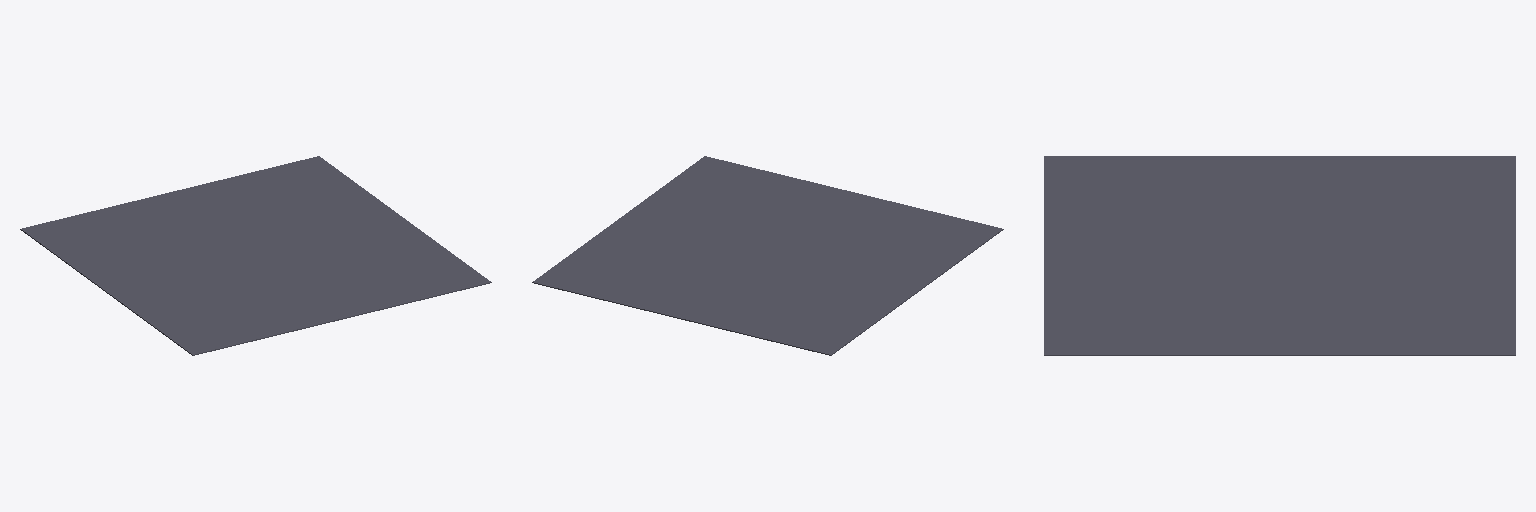
The robot description file, URDF, robot "floor":
<?xml version="1.0"?>
<robot name="floor">
  <link name="world"/>
  <link name="ground">
    <visual>
      <origin xyz="0 0 -0.005" rpy="0 0 0"/>
      <geometry><box size="3.0 3.0 0.01"/></geometry>
      <material name="FloorColor"><color rgba="0.4 0.4 0.45 1.0"/></material>
    </visual>
    <collision>
      <origin xyz="0 0 -0.005" rpy="0 0 0"/>
      <geometry><box size="3.0 3.0 0.01"/></geometry>
    </collision>
  </link>
  <joint name="world_to_ground" type="fixed">
    <parent link="world"/>
    <child link="ground"/>
  </joint>
</robot>

--- What the picture shows (computed from the rendered views, not written in the file) ---
Views: 3 orthographic renders of the robot side by side, from view 1: azimuth 30°, elevation 25°; view 2: azimuth 150°, elevation 25°; view 3: azimuth 270°, elevation 25°.
Model floor with 2 links and 1 joints (1 fixed), rooted at world, posed all joints at 0.
Links seen in each view (by area): view 1: ground; view 2: ground; view 3: ground.
Boxes of the visible links, bbox=[...] form: ground: bbox=[20, 156, 491, 355]; ground: bbox=[532, 156, 1003, 355]; ground: bbox=[1044, 156, 1515, 355].
Size in the robot's own frame: 3 by 3 by 0.01 metres.
Geometry: primitives only (box / cylinder / sphere), no mesh files.
